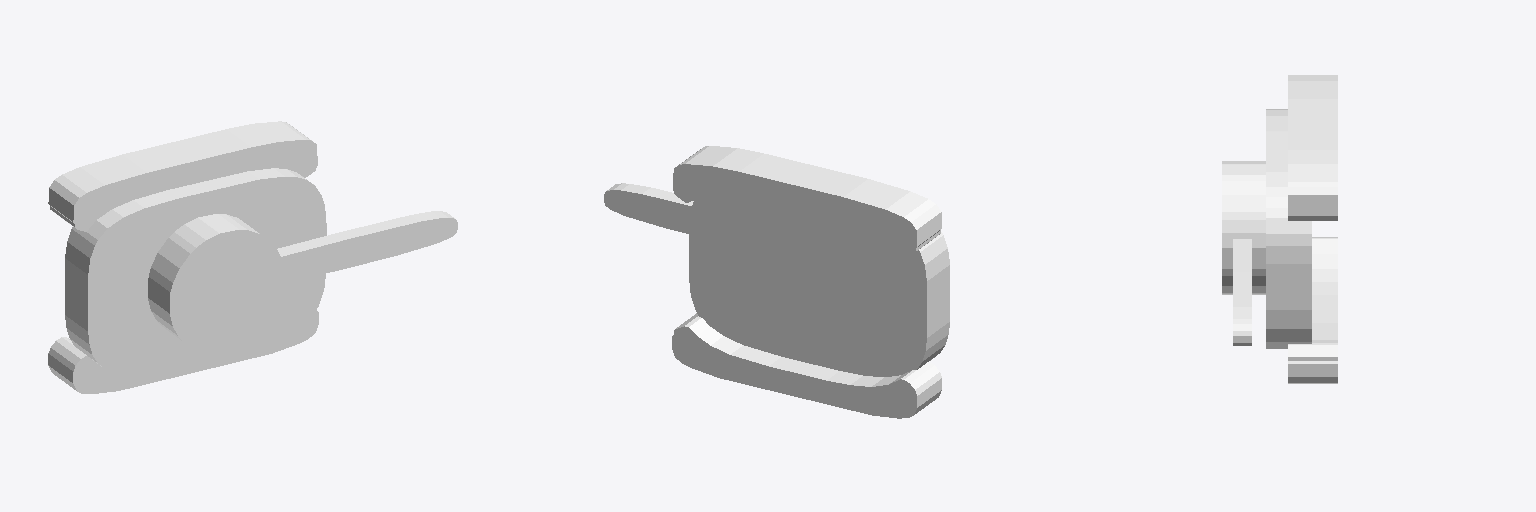
Rendered from t2d_v2_tanks_v4.obj.
3 renders of one model, left to right at view 1: azimuth 30°, elevation 25°; view 2: azimuth 150°, elevation 25°; view 3: azimuth 270°, elevation 25°, orthographic.
Visible parts, largest first — view 1: Object.3, Object.2, Object.5, Object.1, Object.4; view 2: Object.3, Object.5, Object.4, Object.1; view 3: Object.3, Object.5, Object.2, Object.4, Object.1.
Part boxes in pixels (left/top/right/bottom): Object.3: left=65, top=168, right=326, bottom=373; Object.2: left=148, top=214, right=283, bottom=353; Object.5: left=48, top=121, right=317, bottom=231; Object.1: left=277, top=211, right=457, bottom=282; Object.4: left=48, top=310, right=318, bottom=393; Object.3: left=689, top=196, right=949, bottom=376; Object.5: left=673, top=146, right=941, bottom=256; Object.4: left=672, top=313, right=941, bottom=418; Object.1: left=604, top=183, right=693, bottom=233; Object.3: left=1266, top=109, right=1311, bottom=348; Object.5: left=1288, top=75, right=1337, bottom=220; Object.2: left=1222, top=161, right=1265, bottom=294; Object.4: left=1288, top=237, right=1337, bottom=383; Object.1: left=1233, top=239, right=1251, bottom=345.
Bounding box in the file's own units: 131 × 73.92 × 36.97.